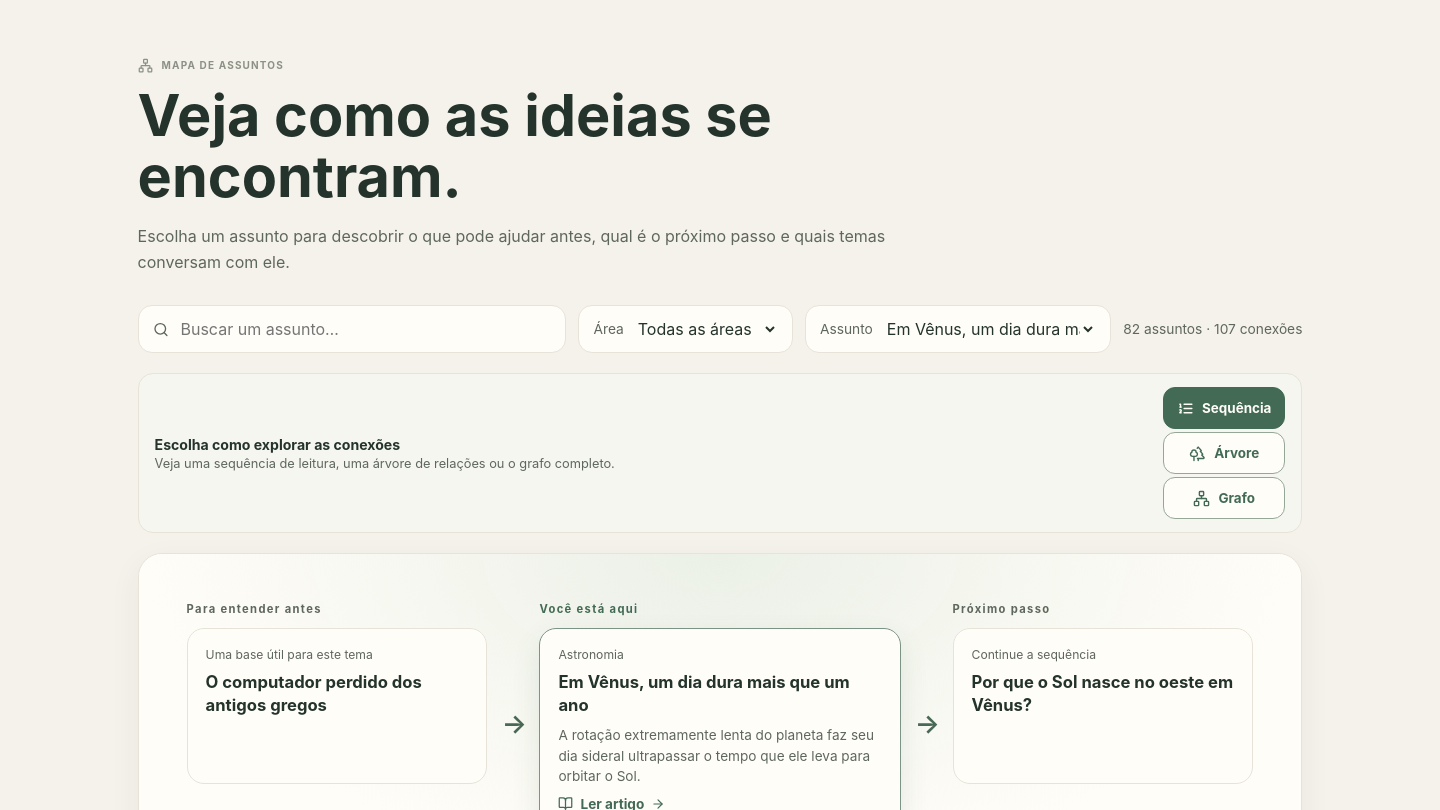
Test: KnowledgeMap › filtra por assunto e área e orienta quando não encontra pontos
The width and height of the screenshot is (1440, 810).
Step 1. Type "termo que não existe" into the field named "Buscar assunto no mapa" → (365, 330), box x1=178 y1=318 x2=552 y2=340
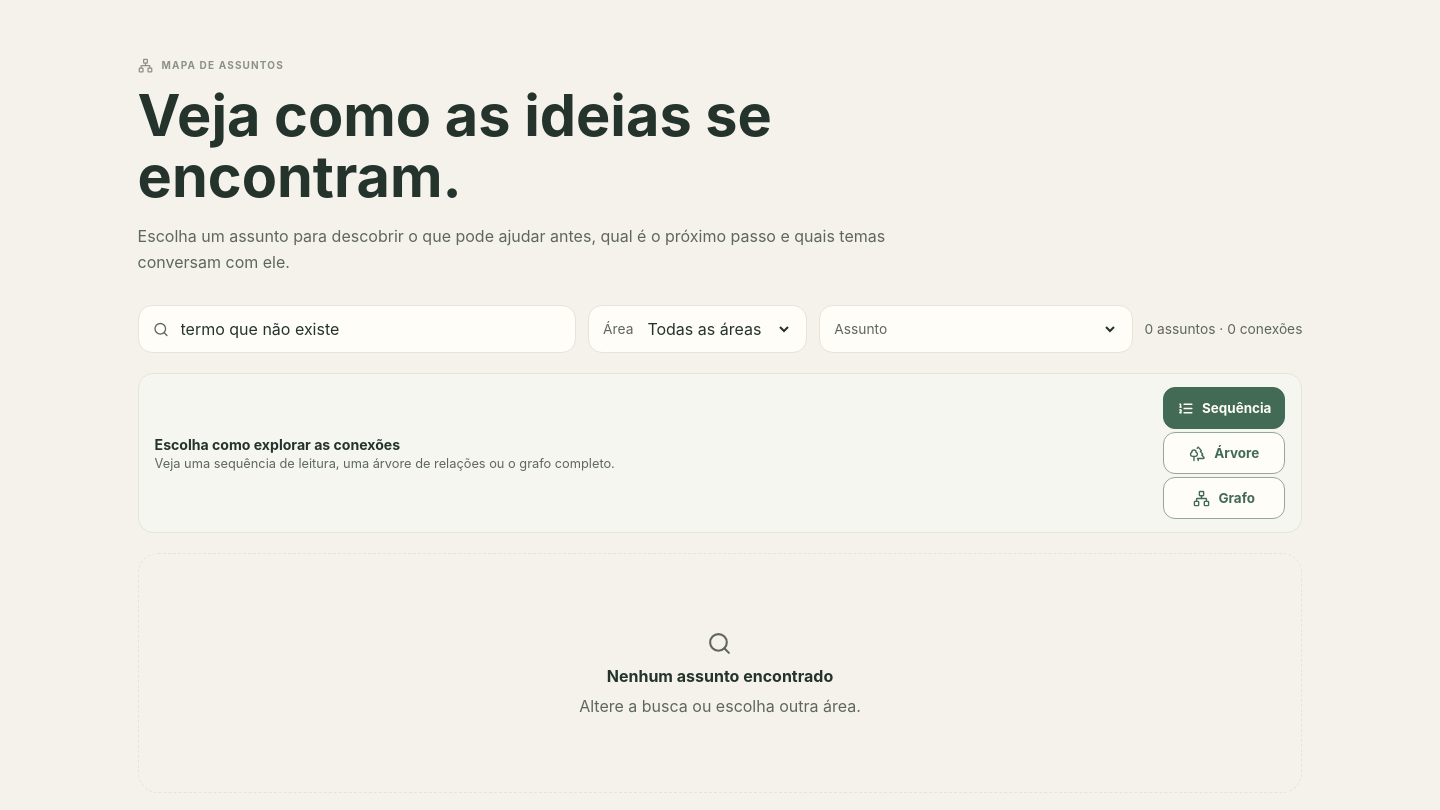
Expected: the text "0 assuntos · 0 conexões" is shown, x1=1144 y1=322 x2=1302 y2=338
Expected: the text "Nenhum assunto encontrado" is shown, x1=607 y1=666 x2=833 y2=686
Step 2. Replace the text in the field named "Buscar assunto no mapa" with "Em Vênus, um dia dura mais que um ano" → (370, 330), box x1=178 y1=318 x2=561 y2=340
(page scrolled)
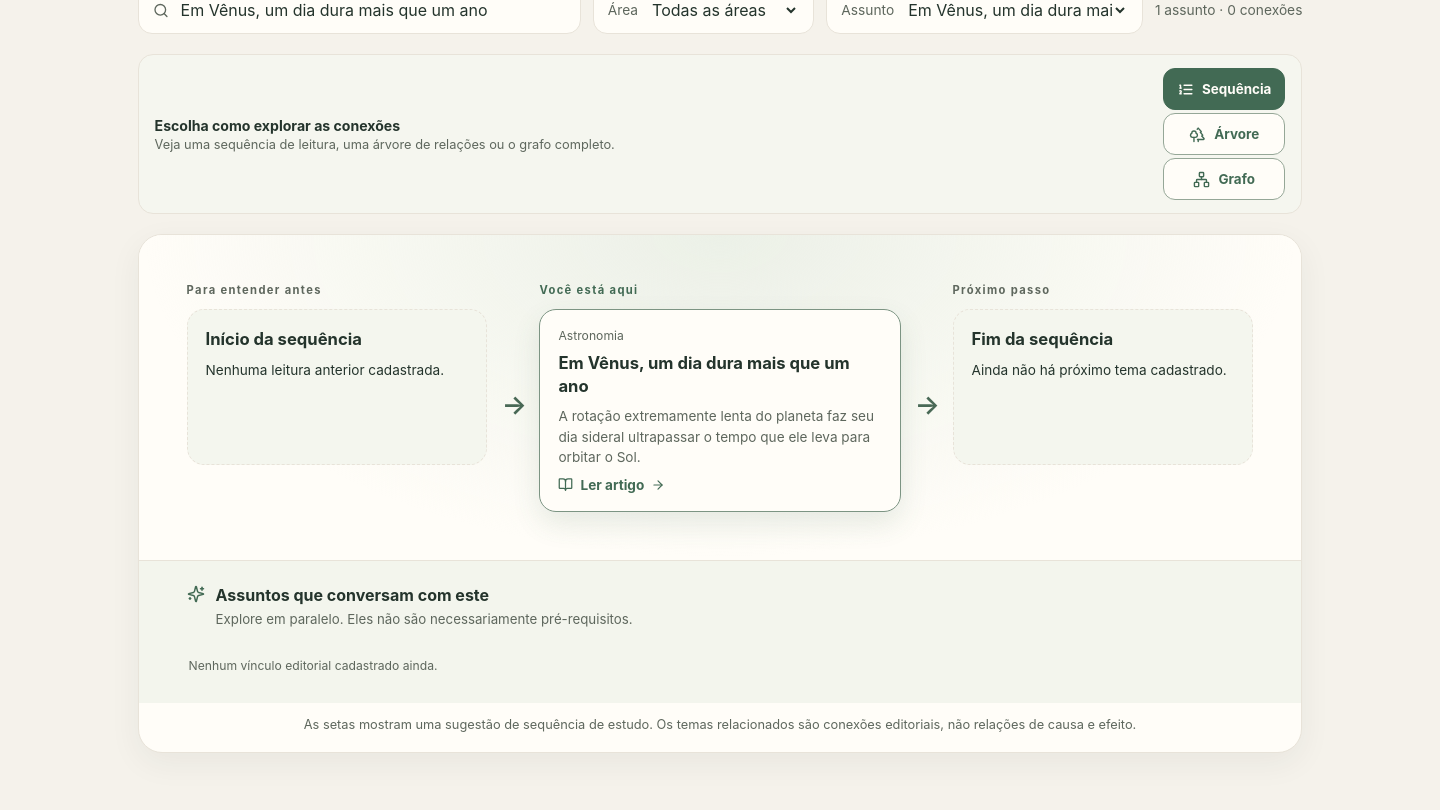
Expected: the dropdown named "Assunto selecionado" shows "Em Vênus, um dia dura mais que um ano", x1=904 y1=0 x2=1128 y2=22
